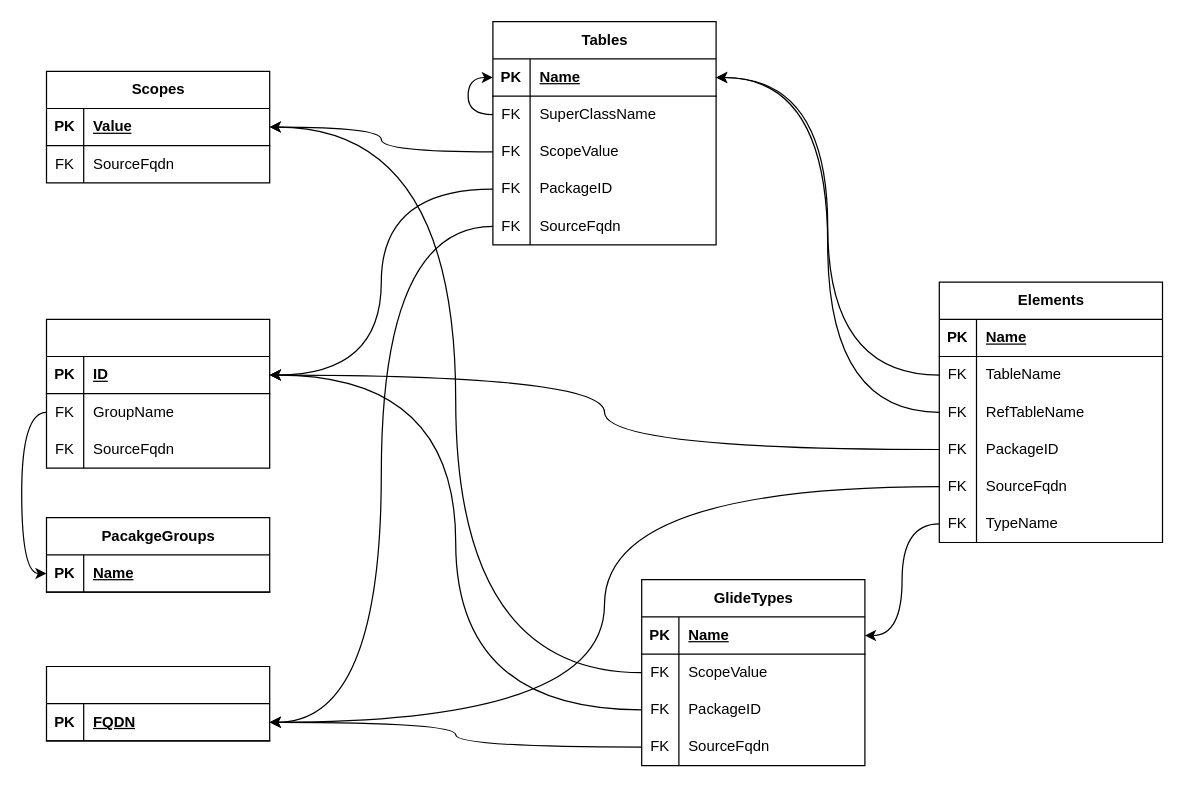
Image size: 1184x787. Some labels were removed from this diagram. The shapes that lost their labels are listed below. From the top down, each one's box as (x1, y1, x2, y2) in pixels, then its label:
(45, 318, 270, 468): Packages
(45, 665, 270, 741): SourceInstances
